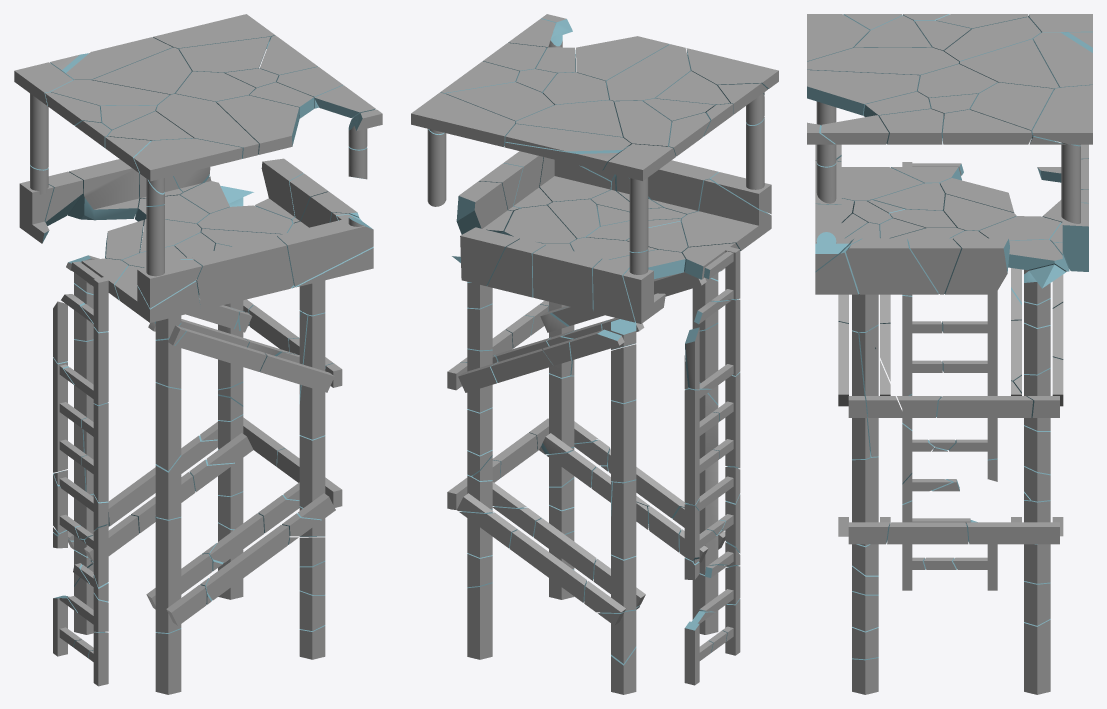
File: Tower_fractured.fbx
The picture shows the model from 3 angles, left to right: view 1: azimuth 30°, elevation 25°; view 2: azimuth 150°, elevation 25°; view 3: azimuth 270°, elevation 25°; orthographic projection. The views are drawn at different scales.
Parts seen in each view (by area): view 1: Tower_shard_55, Tower_shard_74, Tower_shard_75, Tower_shard_11, Tower_shard_81, Tower_shard_95, Tower_shard_53, Tower_shard_88, Tower_shard_42, Tower_shard_50, Tower_shard_65, Tower_shard_8 (+66 smaller); view 2: Tower_shard_65, Tower_shard_48, Tower_shard_95, Tower_shard_9, Tower_shard_35, Tower_shard_88, Tower_shard_12, Tower_shard_8, Tower_shard_6, Tower_shard_51, Tower_shard_50, Tower_shard_55 (+70 smaller); view 3: Tower_shard_3, Tower_shard_50, Tower_shard_88, Tower_shard_100, Tower_shard_8, Tower_shard_110, Tower_shard_9, Tower_shard_51, Tower_shard_74, Tower_shard_93, Tower_shard_99, Tower_shard_57 (+63 smaller).
Boxes of the visible parts, box(x1,y1,x2,y2) form: Tower_shard_55: box(193, 236, 293, 310); Tower_shard_74: box(259, 312, 342, 439); Tower_shard_75: box(277, 214, 373, 286); Tower_shard_11: box(146, 516, 206, 632); Tower_shard_81: box(148, 319, 266, 388); Tower_shard_95: box(68, 159, 139, 220); Tower_shard_53: box(134, 138, 242, 193); Tower_shard_88: box(156, 94, 258, 158); Tower_shard_42: box(137, 204, 201, 308); Tower_shard_50: box(216, 95, 299, 154); Tower_shard_65: box(115, 256, 200, 345); Tower_shard_8: box(283, 435, 342, 519); Tower_shard_65: box(681, 179, 771, 279); Tower_shard_48: box(509, 518, 596, 602); Tower_shard_95: box(532, 244, 602, 312); Tower_shard_9: box(411, 92, 515, 146); Tower_shard_35: box(603, 144, 675, 252); Tower_shard_88: box(606, 44, 690, 102); Tower_shard_12: box(685, 299, 740, 389); Tower_shard_8: box(529, 373, 597, 454); Tower_shard_6: box(584, 554, 645, 612); Tower_shard_51: box(516, 100, 622, 137); Tower_shard_50: box(576, 36, 669, 85); Tower_shard_55: box(629, 160, 718, 214); Tower_shard_3: box(846, 238, 938, 294); Tower_shard_50: box(807, 70, 919, 115); Tower_shard_88: box(807, 47, 958, 78); Tower_shard_100: box(944, 238, 1009, 294); Tower_shard_8: box(838, 451, 890, 546); Tower_shard_110: box(966, 500, 1063, 544); Tower_shard_9: box(1032, 85, 1092, 145); Tower_shard_51: box(959, 39, 1059, 89); Tower_shard_74: box(838, 321, 870, 459); Tower_shard_93: box(970, 82, 1053, 138); Tower_shard_99: box(858, 331, 904, 456); Tower_shard_57: box(815, 238, 878, 332).
Bounding box in the file's own units: 2.82 × 6.2 × 2.78.
